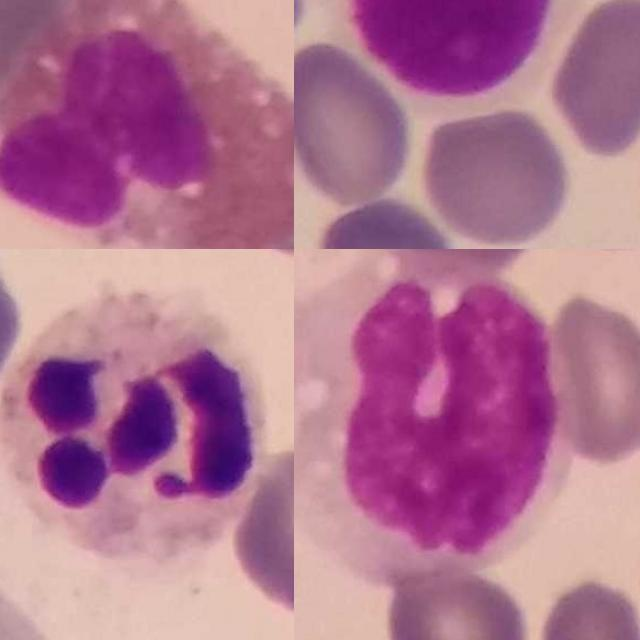Eosinophil: (0, 0, 294, 249)
Lymphocyte: (327, 0, 586, 116)
Monocyte: (294, 266, 558, 562)
Neutrophil: (0, 286, 261, 568)
